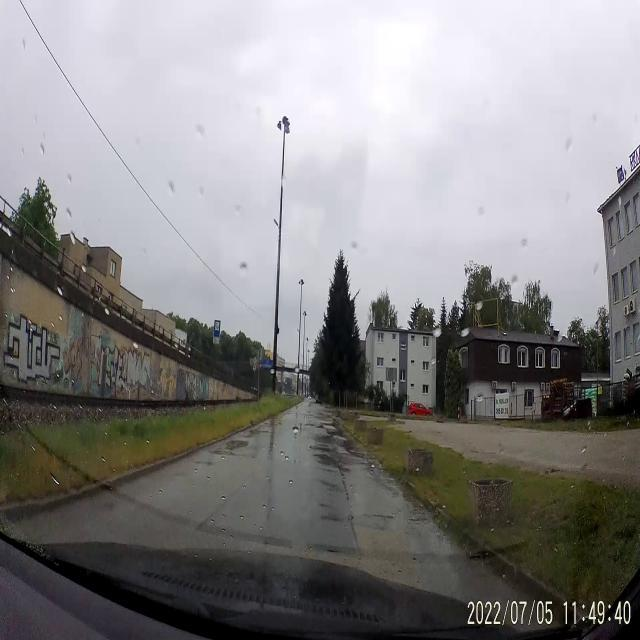Pothole: (343, 512, 362, 555), (360, 506, 399, 524), (408, 512, 430, 528), (212, 444, 236, 458), (334, 462, 352, 478), (308, 442, 334, 453), (248, 425, 268, 438), (304, 420, 326, 430)
